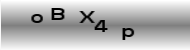4: (92, 19, 108, 32)
B: (49, 6, 65, 21)
X: (78, 9, 96, 24)
o: (29, 13, 45, 24)
p: (119, 27, 135, 41)
